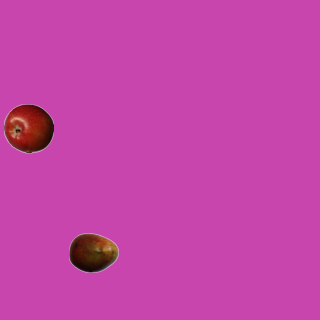Apple Braeburn: (3, 103, 53, 153)
Mango Red: (68, 227, 118, 277)
